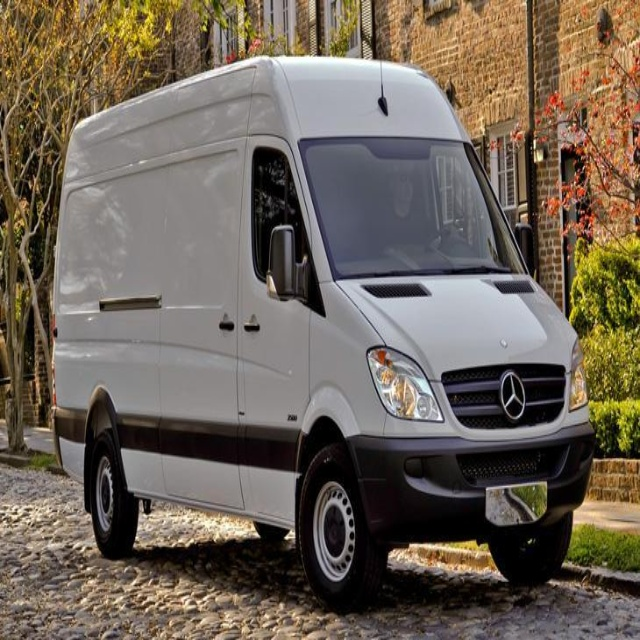Van: (50, 54, 594, 612)
